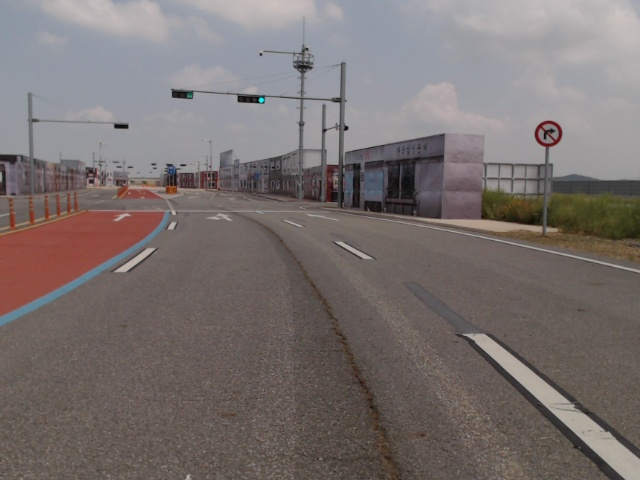straight_green_4: (237, 96, 265, 105)
